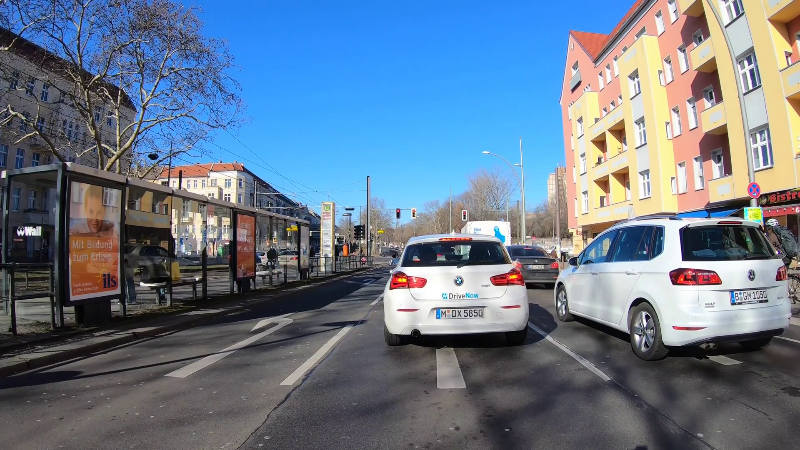Plate: (729, 286, 768, 305), (433, 306, 483, 317)
